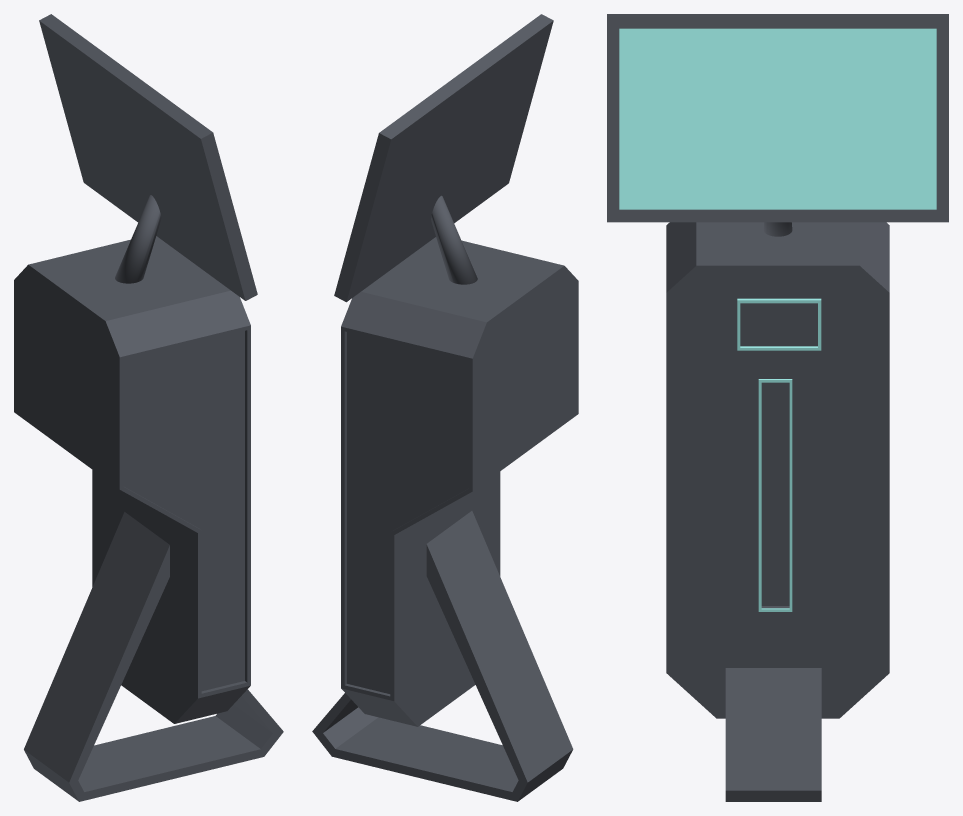
Rendered from terminal.fbx.
The picture shows the model from 3 angles, left to right: view 1: azimuth 30°, elevation 25°; view 2: azimuth 150°, elevation 25°; view 3: azimuth 270°, elevation 25°; orthographic projection. The views are drawn at different scales.
Visible parts, largest first — view 1: terminal; view 2: terminal; view 3: terminal.
Boxes of the visible parts, x1,y1,x2,y2 form: terminal: (14,14,283,801); terminal: (312,14,578,801); terminal: (607,14,948,801).
Bounding box in the file's own units: 176 × 541 × 230.
